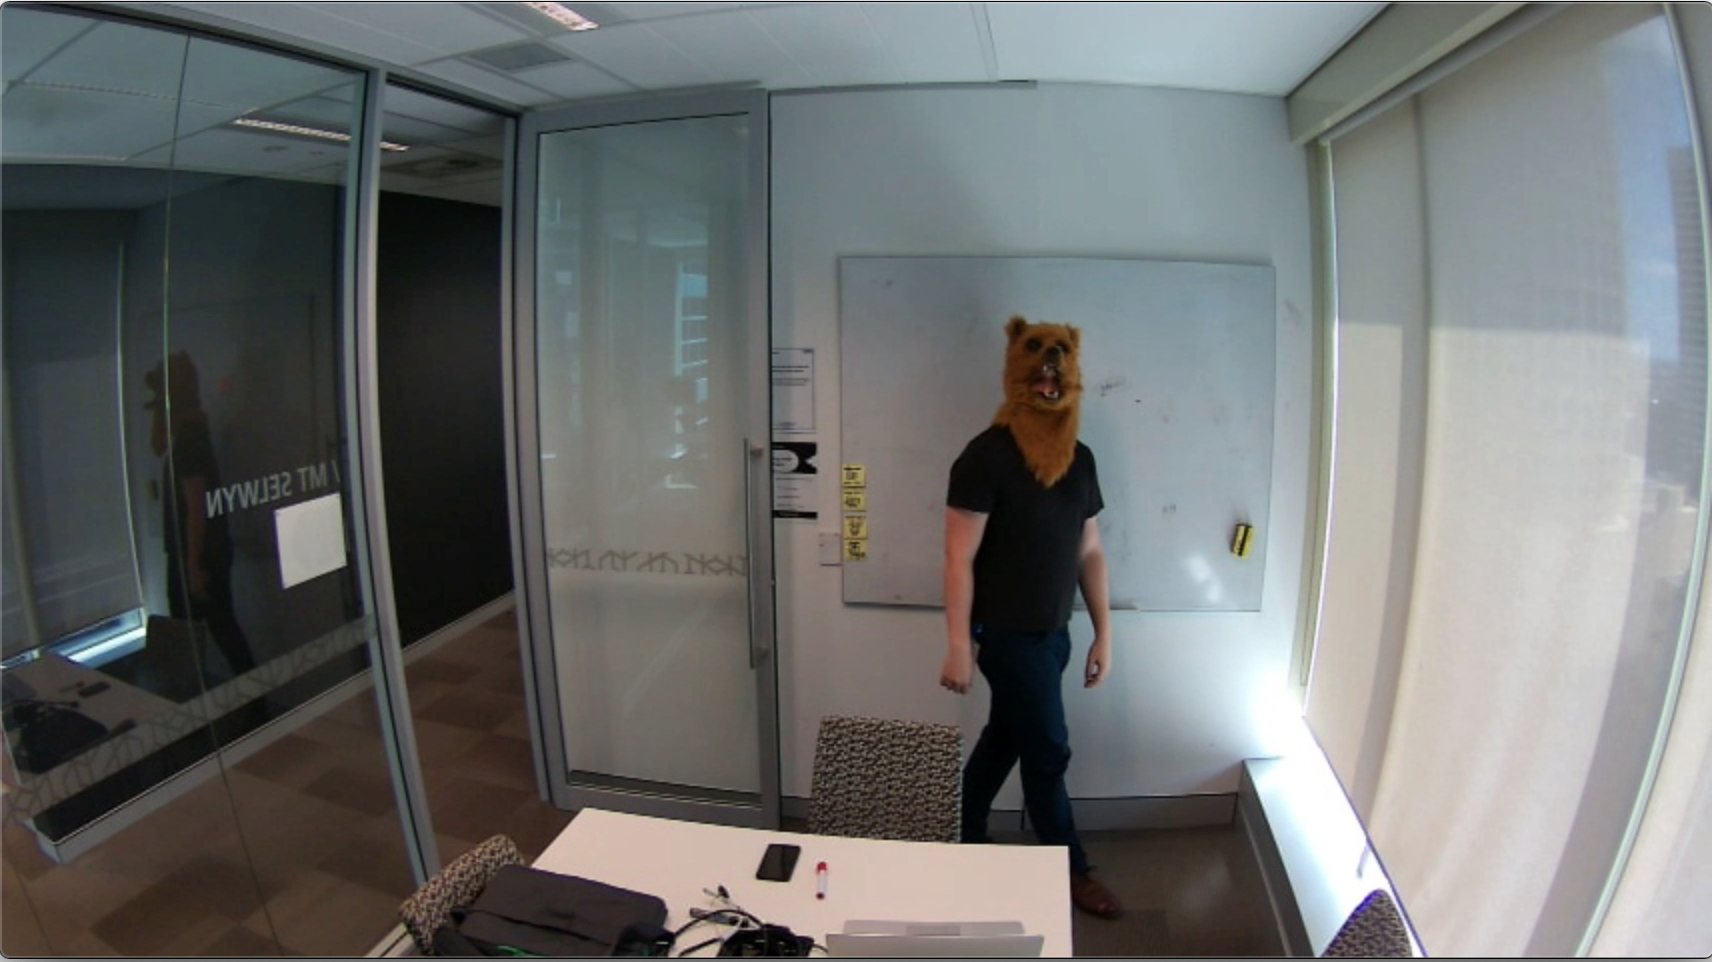Bear: (999, 313, 1089, 430)
